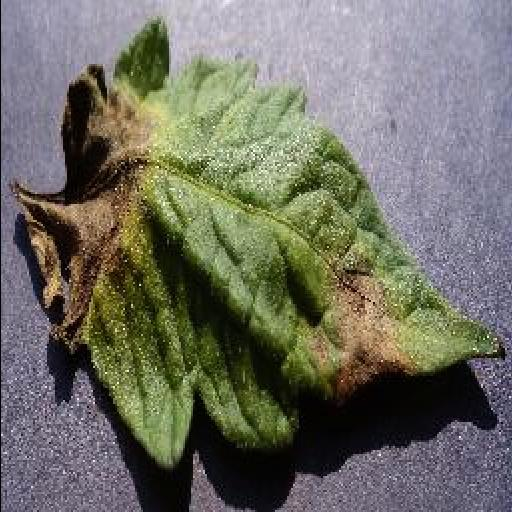disease_tomato: (18, 12, 510, 470)
